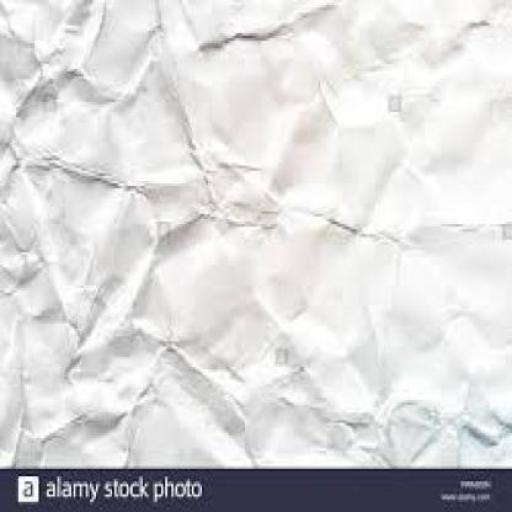paper: (0, 0, 511, 466)
